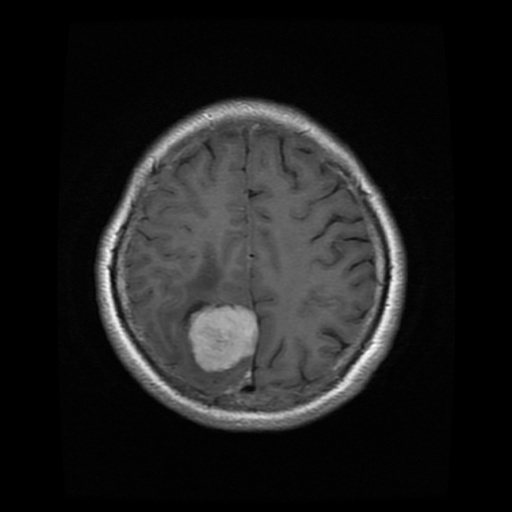meningioma: (188, 302, 260, 373)
